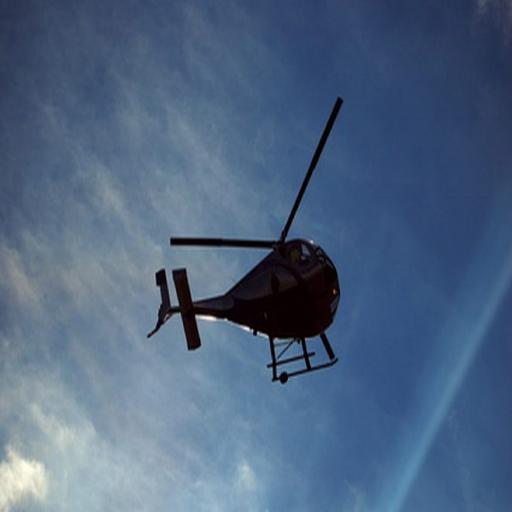helicopter: (148, 99, 351, 385)
